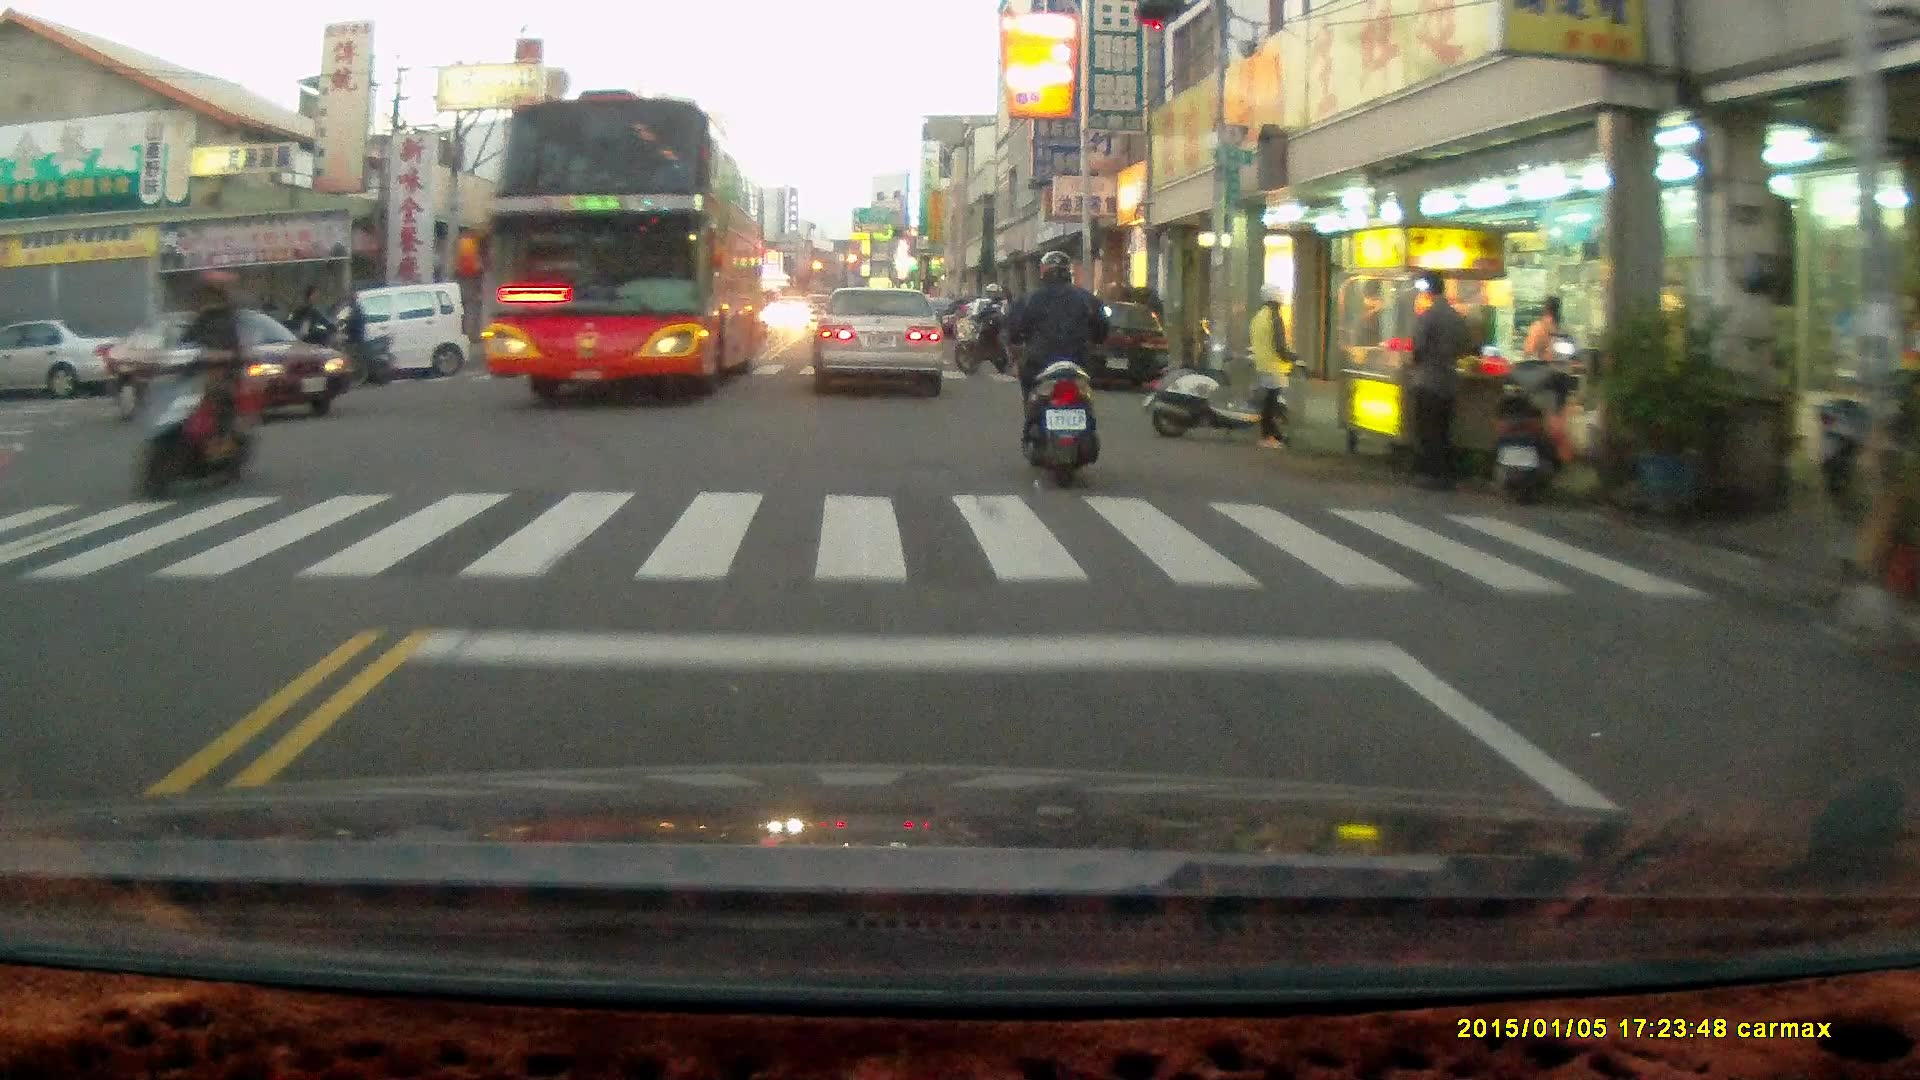pedestrian: (1406, 269, 1470, 490), (1522, 296, 1574, 471), (1250, 284, 1298, 454)
rider: (134, 267, 254, 501), (999, 243, 1114, 486), (267, 283, 368, 390), (315, 288, 390, 386), (949, 287, 1018, 382)
vehicle: (483, 90, 769, 404), (112, 309, 350, 421), (810, 284, 947, 398), (327, 281, 473, 382), (1048, 298, 1173, 397), (1, 315, 126, 404)
